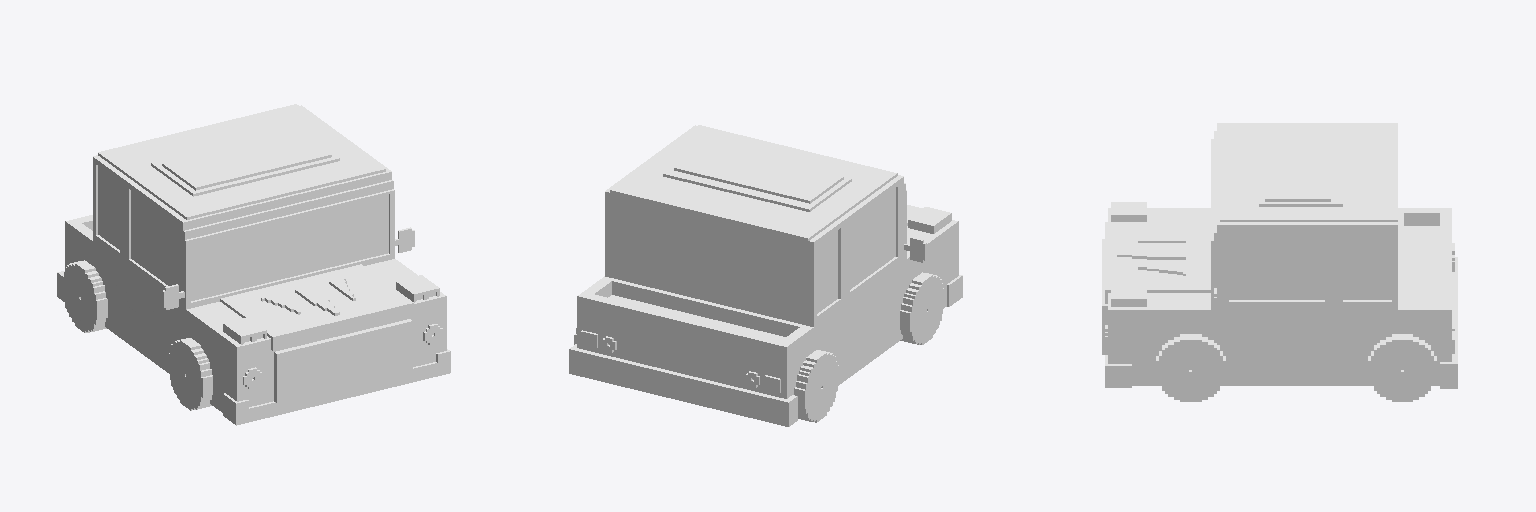
Rendered from BlueCar.obj.
3 views of the same model, side by side, from view 1: azimuth 30°, elevation 25°; view 2: azimuth 150°, elevation 25°; view 3: azimuth 270°, elevation 25° (orthographic).
Parts seen in each view (by area): view 1: object 1; view 2: object 1; view 3: object 1.
Boxes of the visible parts, x1=… form: object 1: x1=57, y1=104, x2=450, y2=425; object 1: x1=569, y1=125, x2=962, y2=426; object 1: x1=1102, y1=123, x2=1457, y2=401.
Bounding box in the file's own units: 9.6 × 6.6 × 11.8.